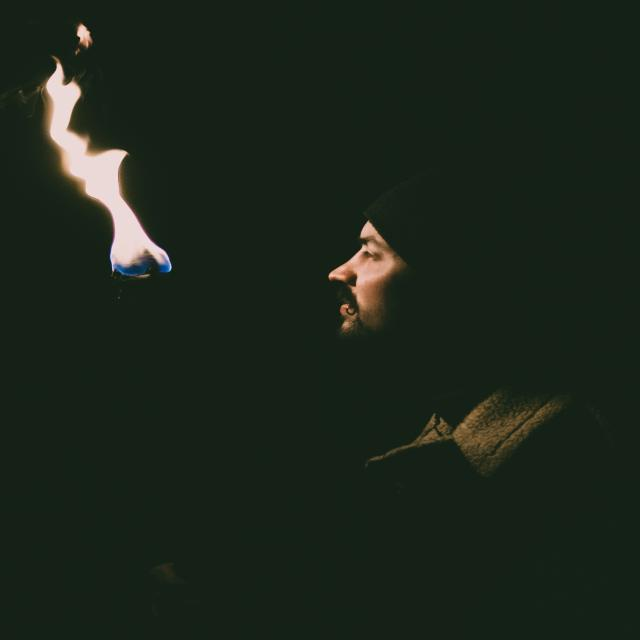fire: (110, 213, 172, 276), (69, 150, 127, 178)
